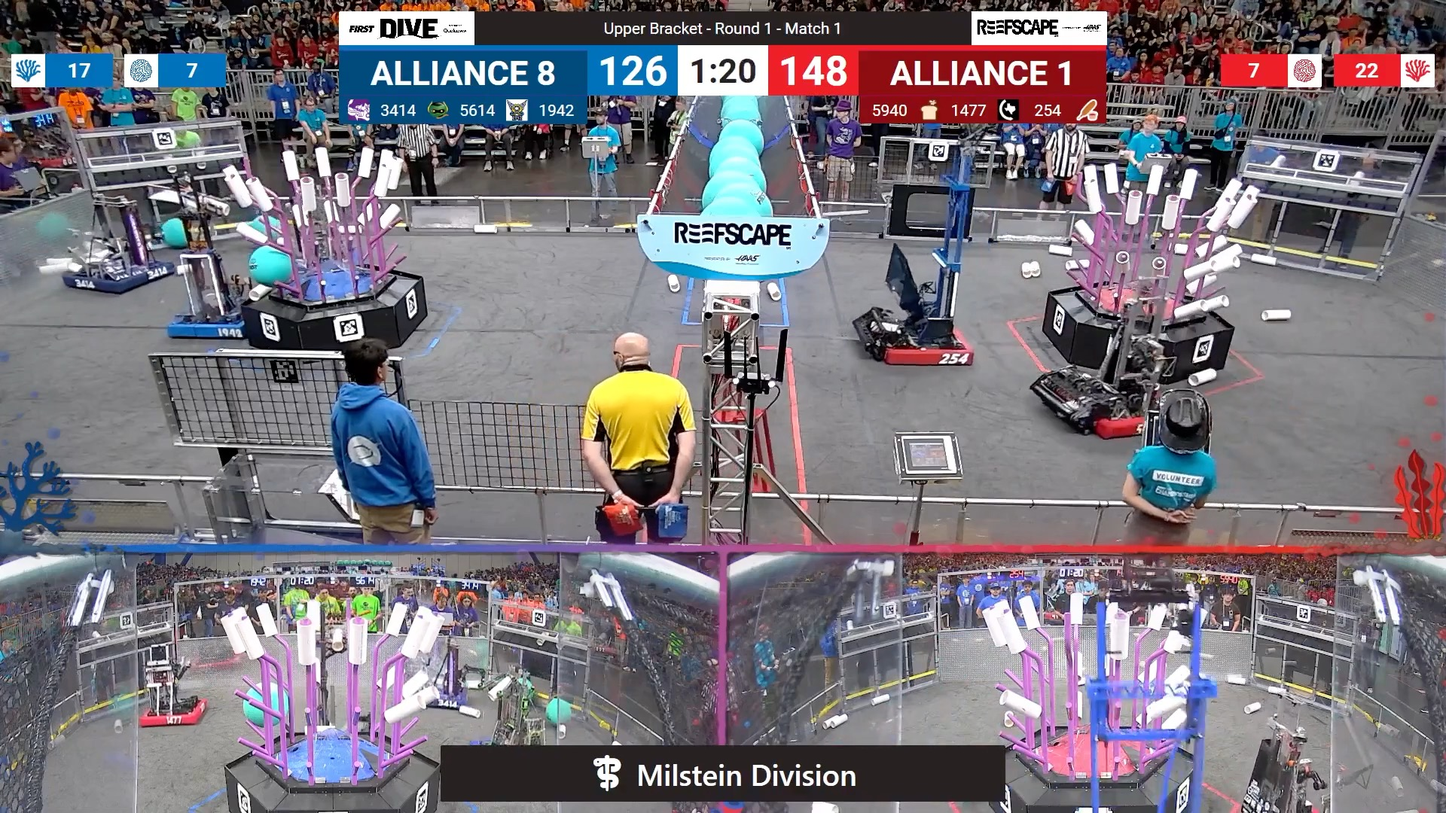bumpers: (1042, 376, 1190, 442), (854, 313, 985, 378), (52, 253, 185, 298), (163, 298, 254, 343), (132, 695, 217, 734), (412, 682, 461, 714)
